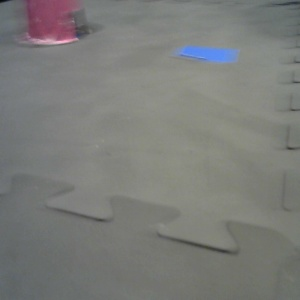right: (218, 1, 294, 58)
